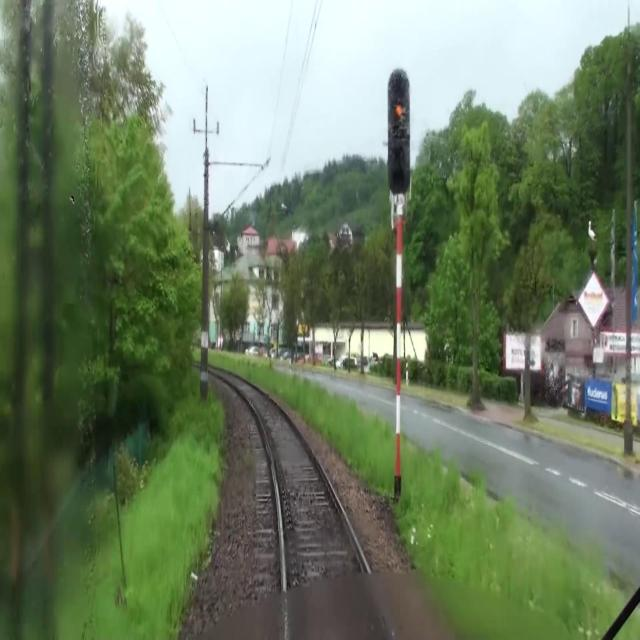rail-track: (224, 374, 393, 639)
